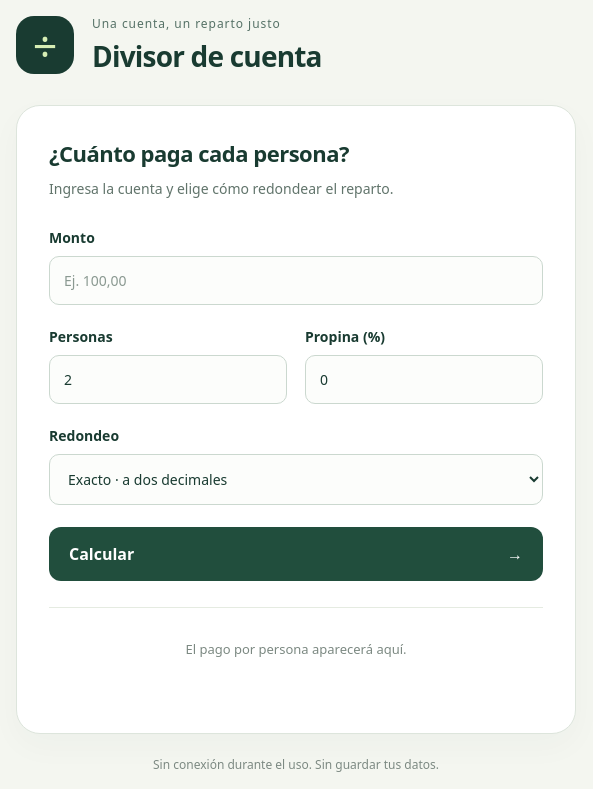
Scenario: Aclaraciones y transiciones de la spec › propina  se rechaza
In the field labelled "Monto": (296, 281) [49,256,543,305], type "50"
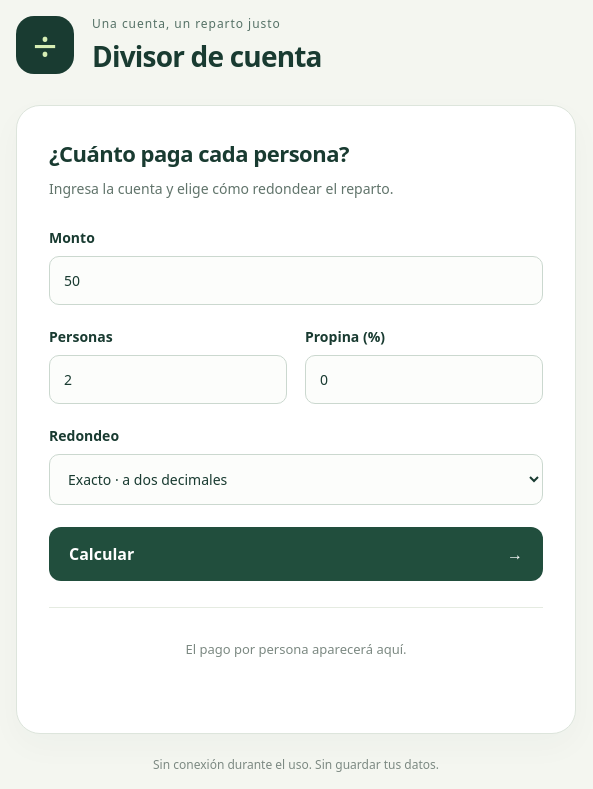
Replace the text in the field labelled "Personas" with "4": (168, 380) [49,355,287,404]
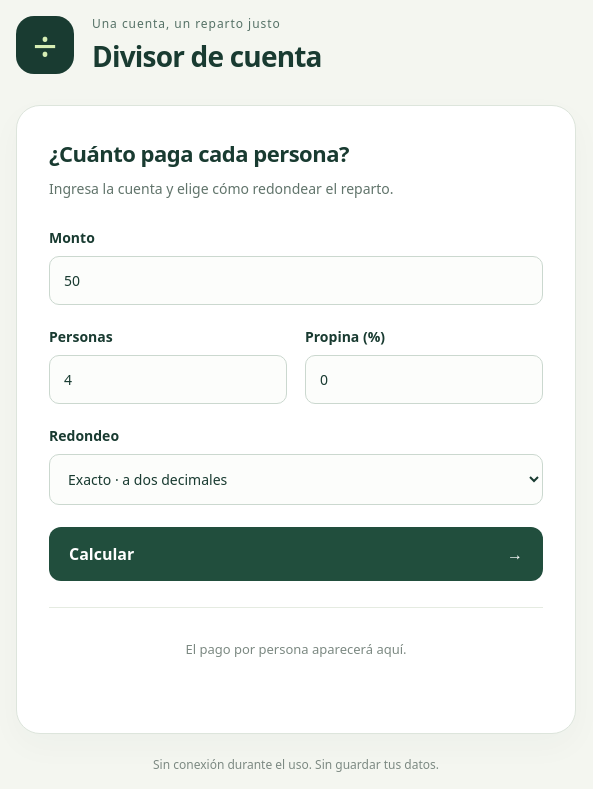
Clear the field labelled "Propina (%)": (424, 380) [305,355,543,404]
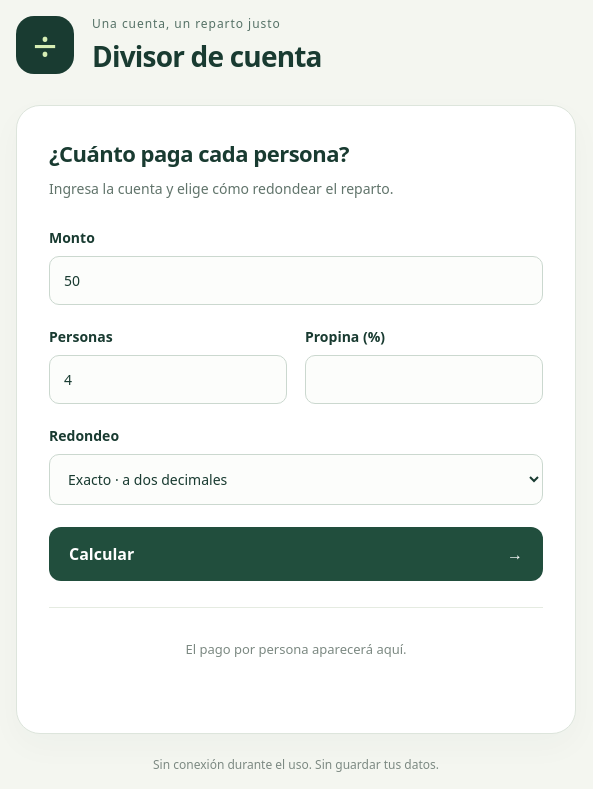
Click the button "Calcular →": (102, 554) [49,527,543,581]
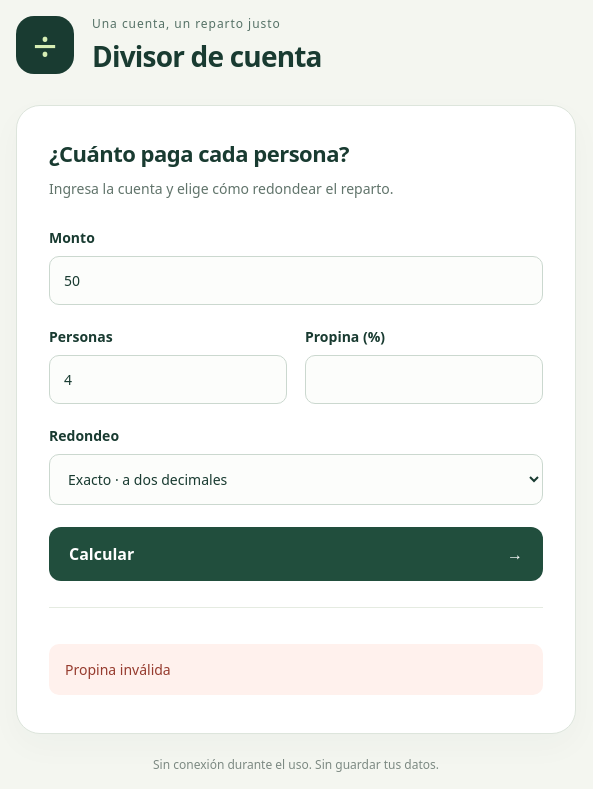
Result: the message reads "Propina inválida" at [65,660,171,679]
